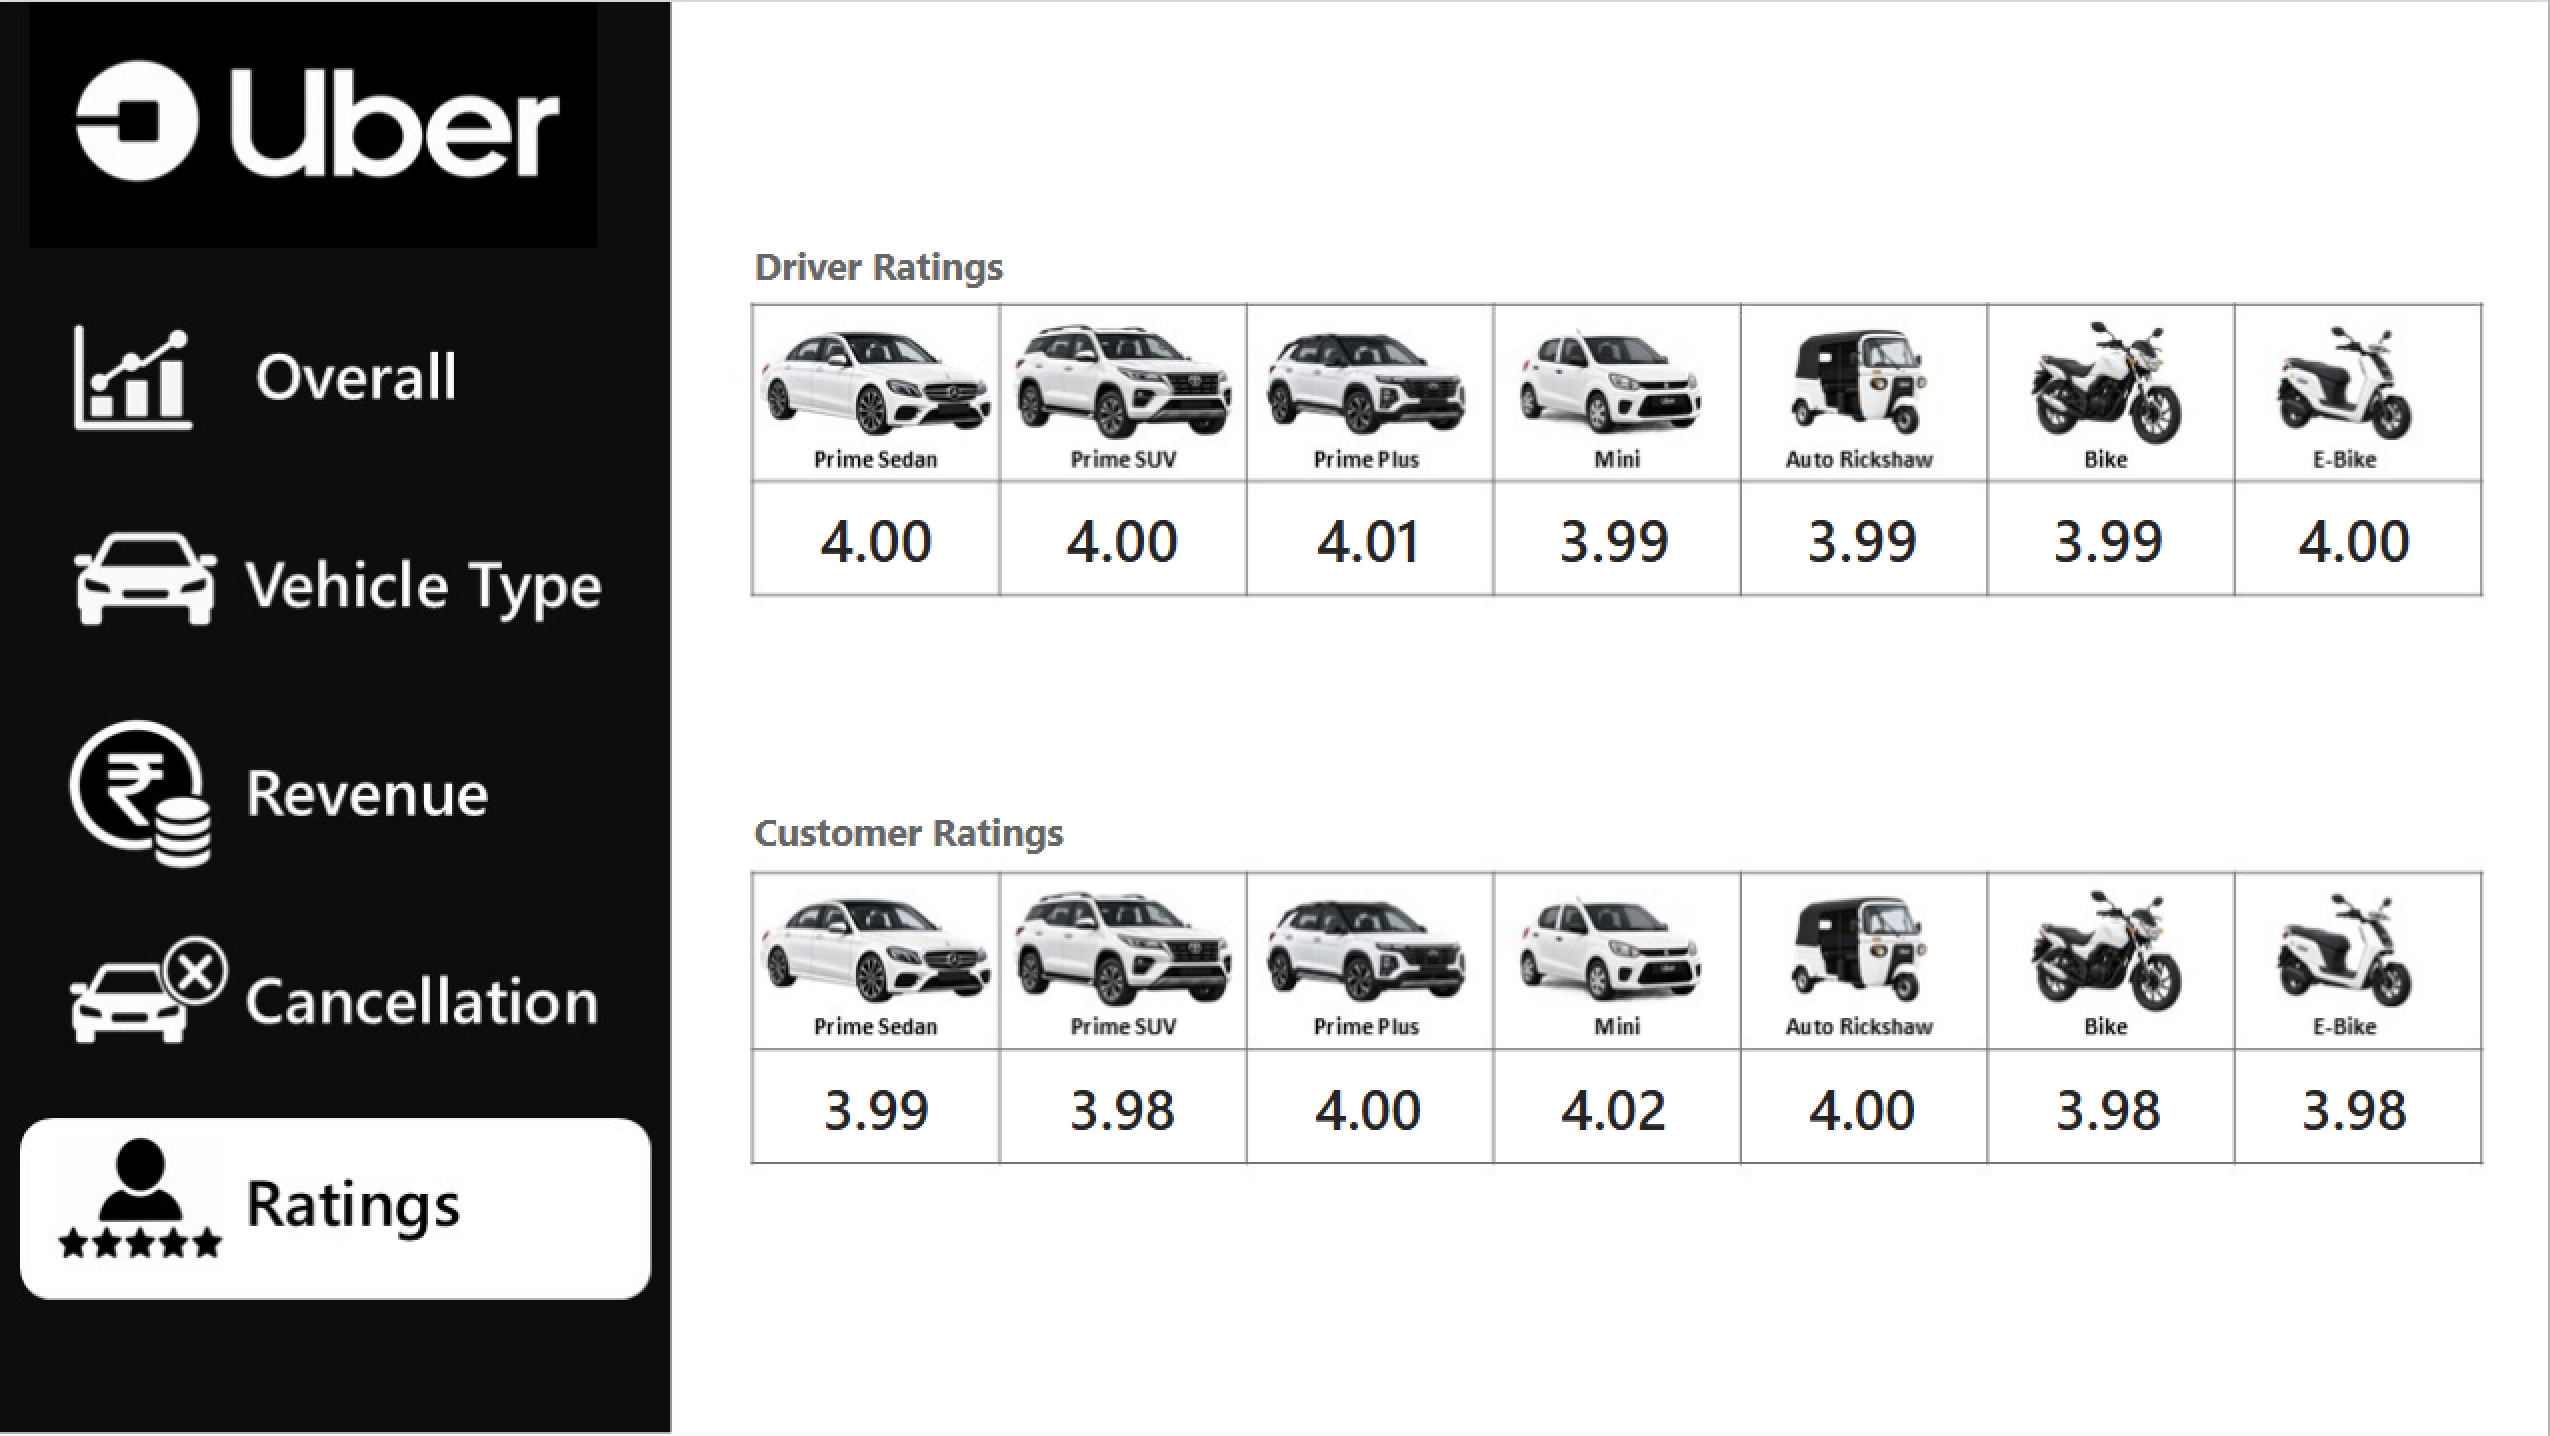

The dashboard page shown, as its layout file describes it:
{"tool":"powerbi","page":{"name":"Ratings","canvas":[1280,720],"ordinal":4},"visuals":[{"type":"actionButton","box":[15.7,251.4,304.3,78.6],"z":0},{"type":"actionButton","box":[17.1,148.6,304.3,78.6],"z":1000},{"type":"actionButton","box":[17.1,357.1,304.3,78.6],"z":2000},{"type":"actionButton","box":[17.1,462.9,304.3,78.6],"z":3000},{"type":"cardVisual","fields":{"Data":["Avg(Uber.Driver_Ratings)"]},"box":[378.8,243.8,123.8,47.5],"z":3001},{"type":"cardVisual","fields":{"Data":["Avg(Uber.Driver_Ratings)"]},"box":[502.5,243.8,123.8,47.5],"z":3002},{"type":"cardVisual","fields":{"Data":["Avg(Uber.Driver_Ratings)"]},"box":[626.2,243.8,123.8,47.5],"z":3003},{"type":"cardVisual","fields":{"Data":["Avg(Uber.Driver_Ratings)"]},"box":[750,243.8,123.8,47.5],"z":3004},{"type":"cardVisual","fields":{"Data":["Avg(Uber.Driver_Ratings)"]},"box":[873.8,243.8,123.8,47.5],"z":3005},{"type":"cardVisual","fields":{"Data":["Avg(Uber.Driver_Ratings)"]},"box":[997.5,243.8,123.8,47.5],"z":3006},{"type":"cardVisual","fields":{"Data":["Avg(Uber.Driver_Ratings)"]},"box":[1121.2,243.8,123.8,47.5],"z":3007},{"type":"cardVisual","fields":{"Data":["Avg(Uber.Customer_Rating)"]},"box":[378.8,530,123.8,48.8],"z":3008},{"type":"textbox","box":[378.8,120,136.2,28.8],"z":3009},{"type":"textbox","box":[378.8,403.8,165,32.5],"z":3010},{"type":"cardVisual","fields":{"Data":["Avg(Uber.Customer_Rating)"]},"box":[502.5,530,123.8,48.8],"z":3011},{"type":"cardVisual","fields":{"Data":["Avg(Uber.Customer_Rating)"]},"box":[626.2,530,123.8,48.8],"z":3012},{"type":"cardVisual","fields":{"Data":["Avg(Uber.Customer_Rating)"]},"box":[750,530,123.8,48.8],"z":3013},{"type":"cardVisual","fields":{"Data":["Avg(Uber.Customer_Rating)"]},"box":[873.8,530,123.8,48.8],"z":3014},{"type":"cardVisual","fields":{"Data":["Avg(Uber.Customer_Rating)"]},"box":[997.5,530,123.8,48.8],"z":3015},{"type":"cardVisual","fields":{"Data":["Avg(Uber.Customer_Rating)"]},"box":[1121.2,530,123.8,48.8],"z":3016}]}

Visuals, with their boxes on the page's 1280x720 design canvas (x1, y1, x2, y2). These are canvas units, not pixel positions in the 2550x1436 screenshot, which may show the page scaled, cropped or inside an application window:
actionButton: bbox=[16, 251, 320, 330]
actionButton: bbox=[17, 149, 321, 227]
actionButton: bbox=[17, 357, 321, 436]
actionButton: bbox=[17, 463, 321, 542]
cardVisual - Avg(Uber.Driver_Ratings): bbox=[379, 244, 503, 291]
cardVisual - Avg(Uber.Driver_Ratings): bbox=[502, 244, 626, 291]
cardVisual - Avg(Uber.Driver_Ratings): bbox=[626, 244, 750, 291]
cardVisual - Avg(Uber.Driver_Ratings): bbox=[750, 244, 874, 291]
cardVisual - Avg(Uber.Driver_Ratings): bbox=[874, 244, 998, 291]
cardVisual - Avg(Uber.Driver_Ratings): bbox=[998, 244, 1121, 291]
cardVisual - Avg(Uber.Driver_Ratings): bbox=[1121, 244, 1245, 291]
cardVisual - Avg(Uber.Customer_Rating): bbox=[379, 530, 503, 579]
textbox: bbox=[379, 120, 515, 149]
textbox: bbox=[379, 404, 544, 436]
cardVisual - Avg(Uber.Customer_Rating): bbox=[502, 530, 626, 579]
cardVisual - Avg(Uber.Customer_Rating): bbox=[626, 530, 750, 579]
cardVisual - Avg(Uber.Customer_Rating): bbox=[750, 530, 874, 579]
cardVisual - Avg(Uber.Customer_Rating): bbox=[874, 530, 998, 579]
cardVisual - Avg(Uber.Customer_Rating): bbox=[998, 530, 1121, 579]
cardVisual - Avg(Uber.Customer_Rating): bbox=[1121, 530, 1245, 579]
